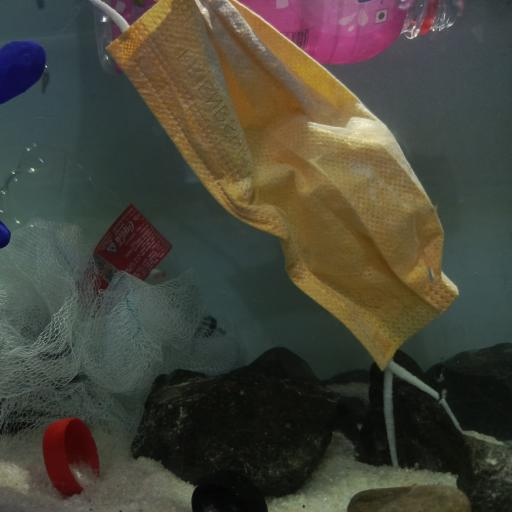bottle_cap: (43, 420, 101, 496), (191, 471, 268, 512)
glove: (0, 44, 48, 248)
mask: (84, 0, 464, 403)
net: (0, 219, 208, 445)
plastic_bottle: (1, 140, 225, 344), (95, 0, 461, 71)
